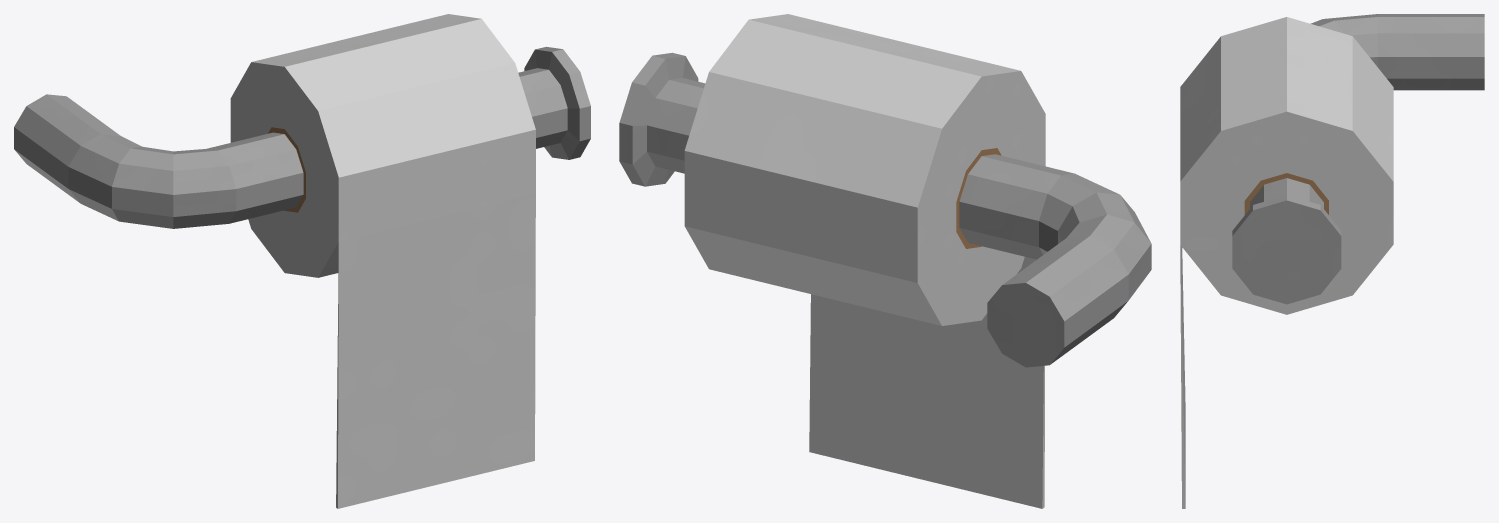
The model's file is Toilet_Paper_02.fbx.
The picture shows the model from 3 angles, left to right: view 1: azimuth 30°, elevation 25°; view 2: azimuth 150°, elevation 25°; view 3: azimuth 270°, elevation 25°; orthographic projection. The views are drawn at different scales.
Parts seen in each view (by area): view 1: Toilet_Paper_02; view 2: Toilet_Paper_02; view 3: Toilet_Paper_02.
Part boxes in pixels (left/top/right/bottom): Toilet_Paper_02: left=14, top=14, right=590, bottom=508; Toilet_Paper_02: left=619, top=14, right=1151, bottom=508; Toilet_Paper_02: left=1180, top=14, right=1484, bottom=508.
Size of the model in its own units: 0.4478 by 0.3843 by 0.267.
